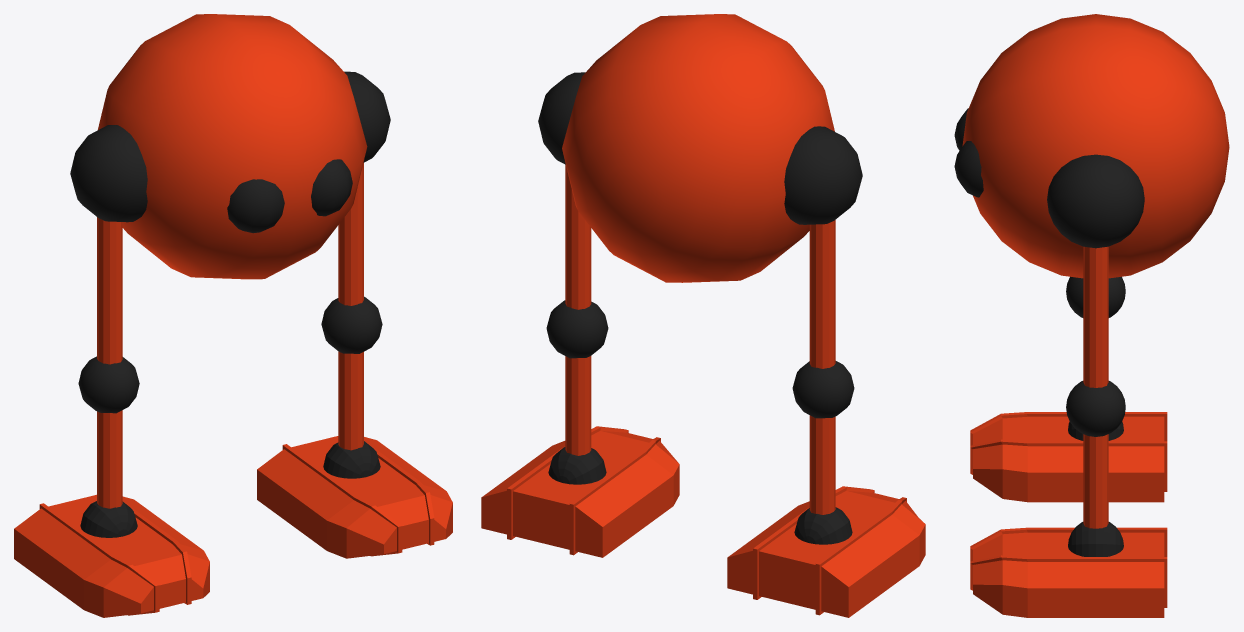
Rendered from RoboLight.fbx.
3 views of the same model, side by side, from view 1: azimuth 30°, elevation 25°; view 2: azimuth 150°, elevation 25°; view 3: azimuth 270°, elevation 25° (orthographic). The views are drawn at different scales.
Visible parts, largest first — view 1: Robo.006; view 2: Robo.006; view 3: Robo.006.
Boxes of the visible parts, x1,y1,x2,y2 form: Robo.006: (14, 14, 452, 617); Robo.006: (481, 14, 925, 617); Robo.006: (954, 14, 1229, 617).
Bounding box in the file's own units: 795 × 1090 × 535.
